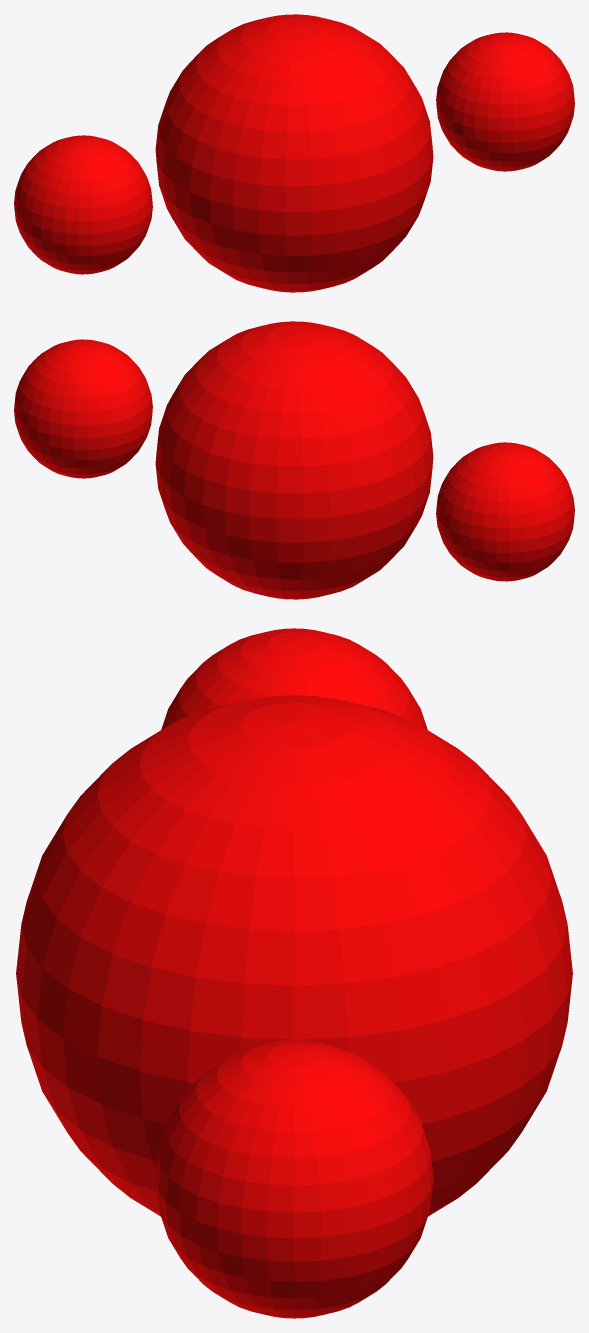
File: MSFT_lod_complex_hierarchy.gltf
3 views of the same model, one above another, from view 1: azimuth 30°, elevation 25°; view 2: azimuth 150°, elevation 25°; view 3: azimuth 270°, elevation 25° (orthographic). The views are drawn at different scales.
Visible parts, largest first — view 1: LOD0_LOD0, Sphere1_LOD0, Sphere2_LOD0; view 2: LOD0_LOD0, Sphere1_LOD0, Sphere2_LOD0; view 3: LOD0_LOD0, Sphere1_LOD0, Sphere2_LOD0.
Boxes of the visible parts, x1,y1,x2,y2 form: LOD0_LOD0: (155,14,433,292); Sphere1_LOD0: (436,32,574,171); Sphere2_LOD0: (14,135,152,274); LOD0_LOD0: (155,321,433,599); Sphere1_LOD0: (14,339,152,478); Sphere2_LOD0: (436,442,574,581); LOD0_LOD0: (16,695,572,1216); Sphere1_LOD0: (155,1040,433,1318); Sphere2_LOD0: (161,628,427,729).
Bounding box in the file's own units: 4.5 × 2 × 2.
